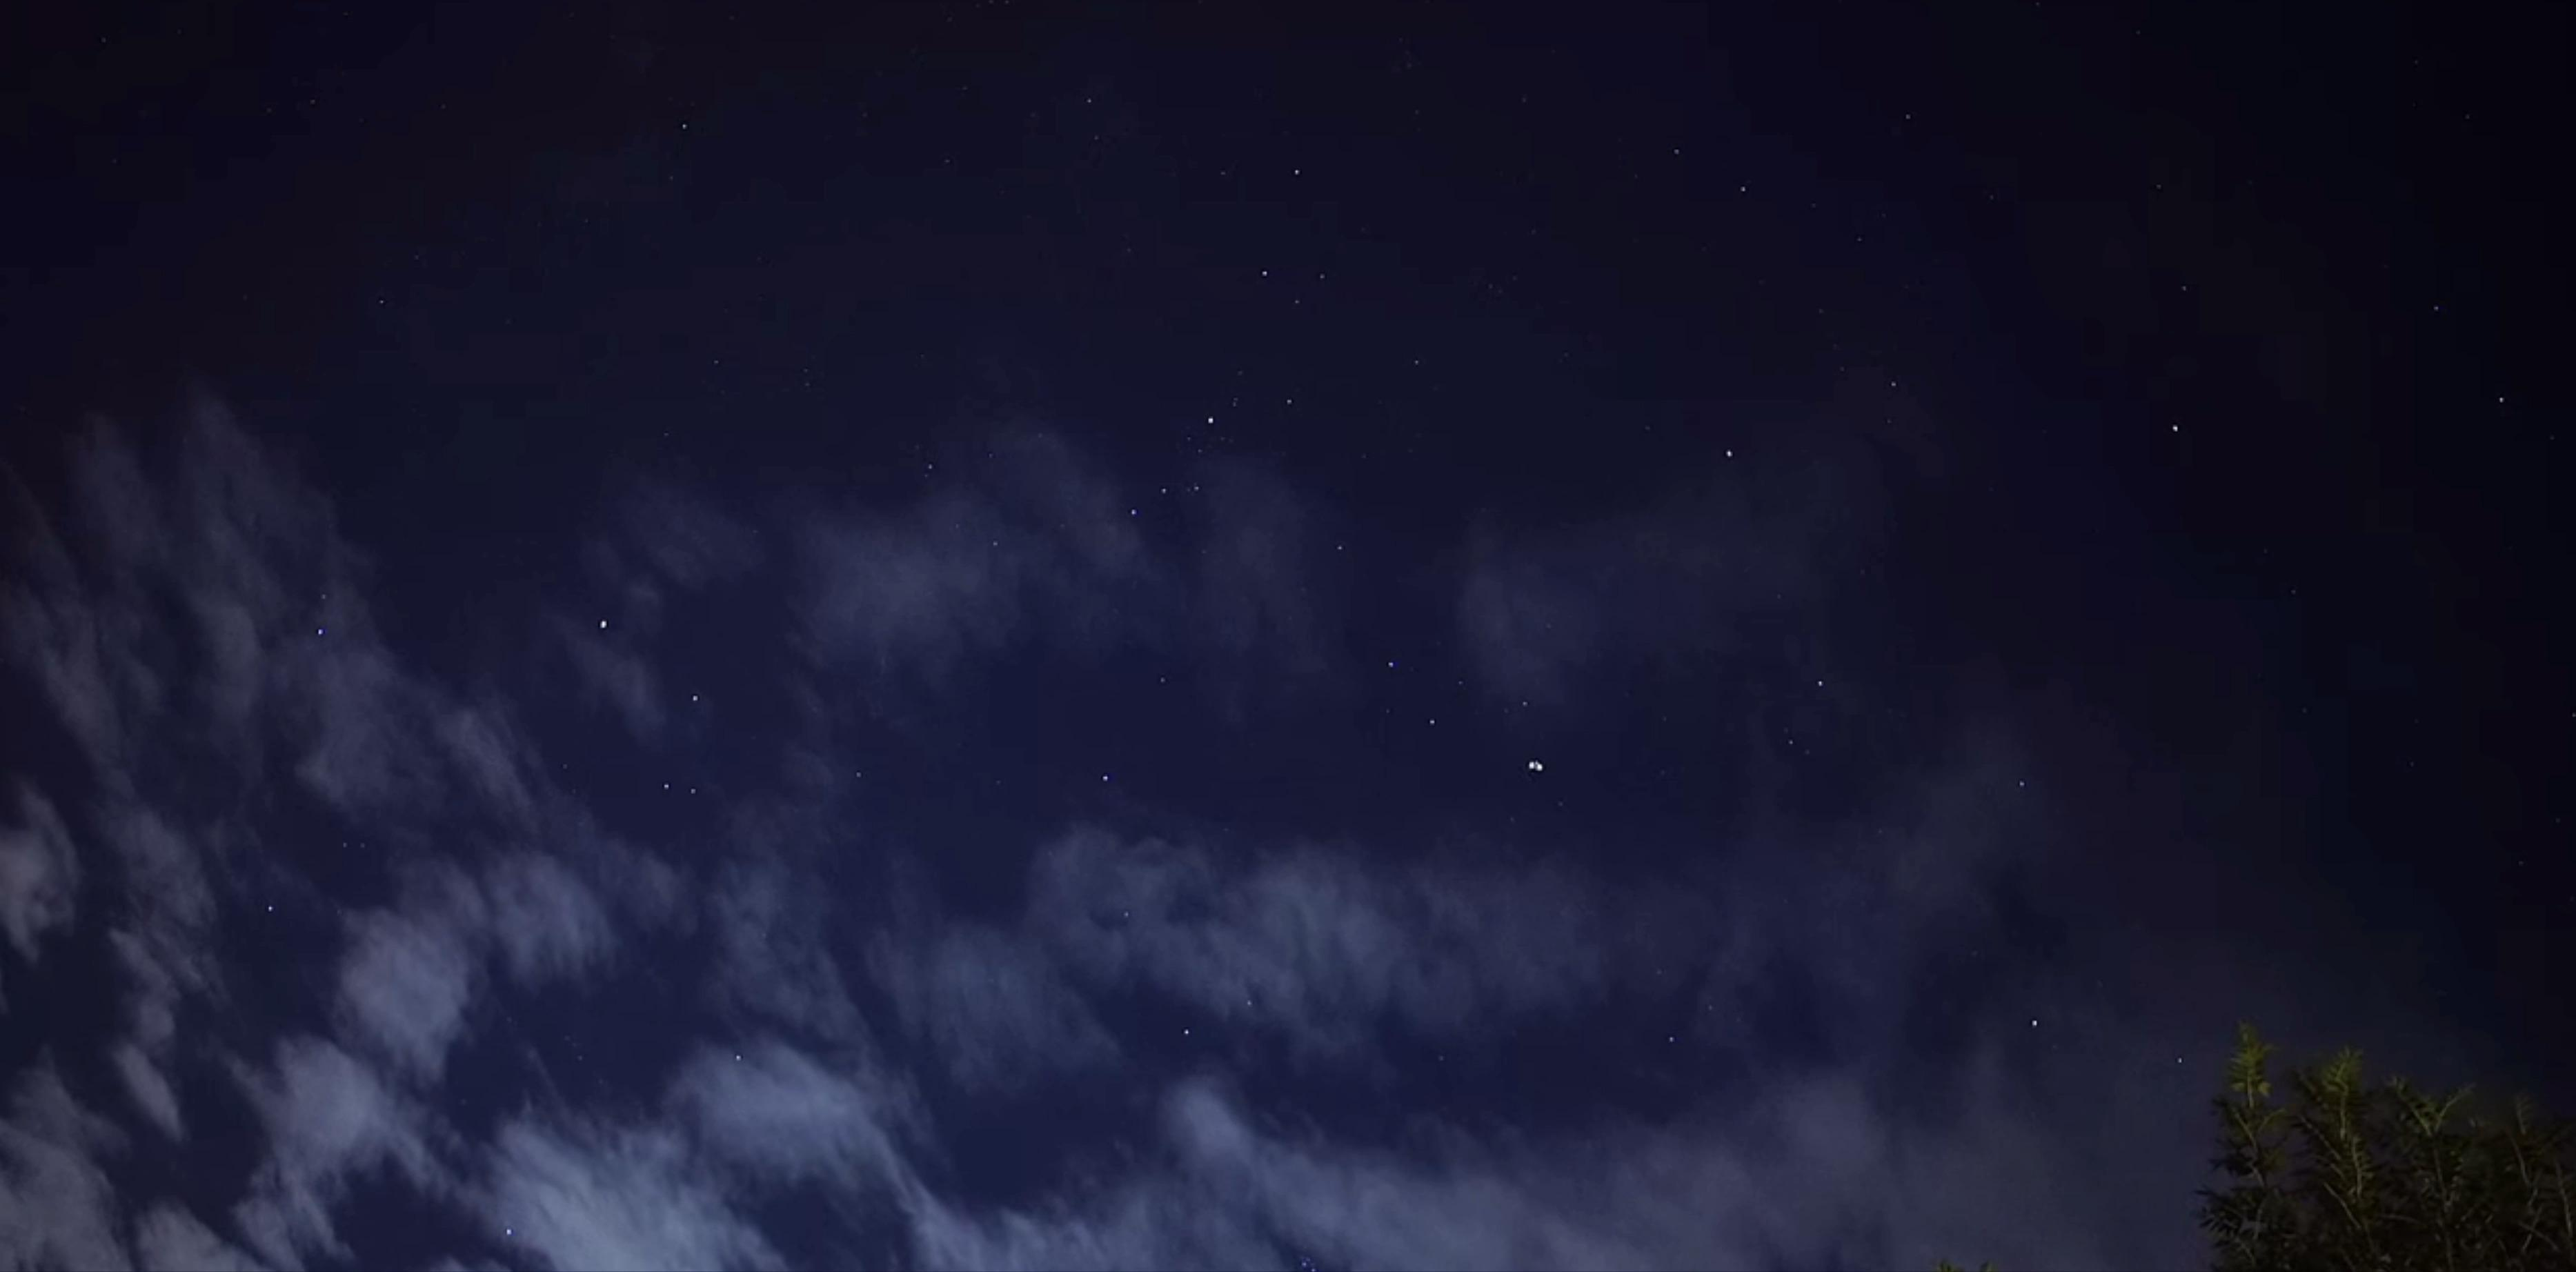Plane: (1511, 753, 1571, 782)
